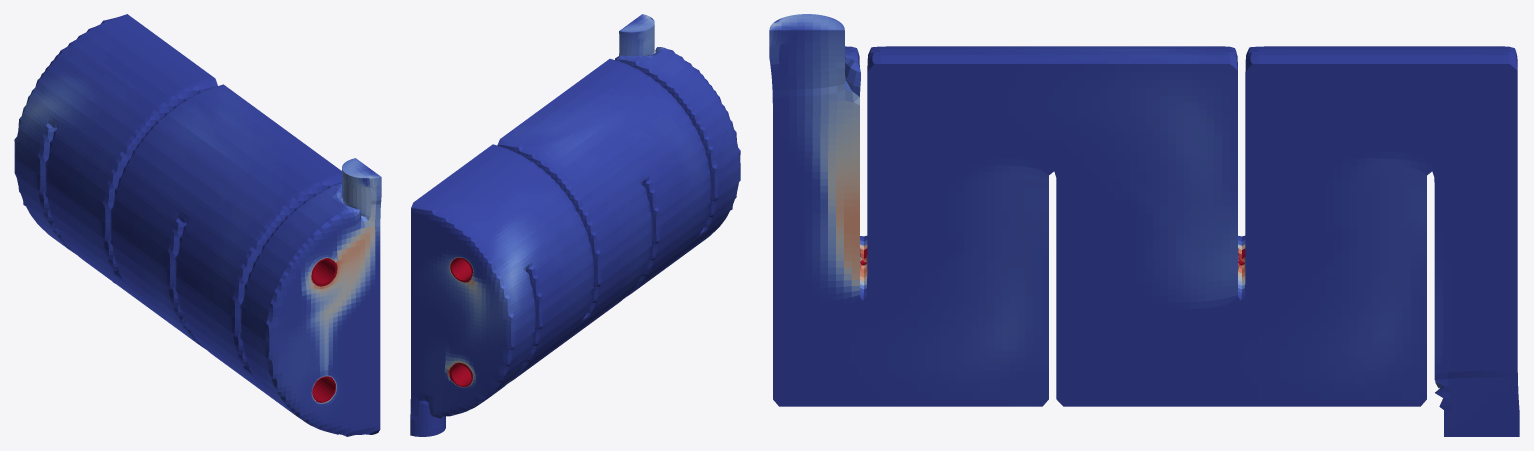
Rendered from Shape_IndexedFaceSet.001reference_velocity.py_timestep2_time100.0_.fbx.
3 renders of one model, left to right at view 1: azimuth 30°, elevation 25°; view 2: azimuth 150°, elevation 25°; view 3: azimuth 270°, elevation 25°, orthographic. The views are drawn at different scales.
Parts seen in each view (by area): view 1: Shape_IndexedFaceSet.001; view 2: Shape_IndexedFaceSet.001; view 3: Shape_IndexedFaceSet.001.
Part boxes in pixels (left/top/right/bottom): Shape_IndexedFaceSet.001: left=14, top=14, right=381, bottom=436; Shape_IndexedFaceSet.001: left=410, top=14, right=740, bottom=436; Shape_IndexedFaceSet.001: left=769, top=14, right=1519, bottom=436.
Bounding box in the file's own units: 25.37 × 59.33 × 99.2.
